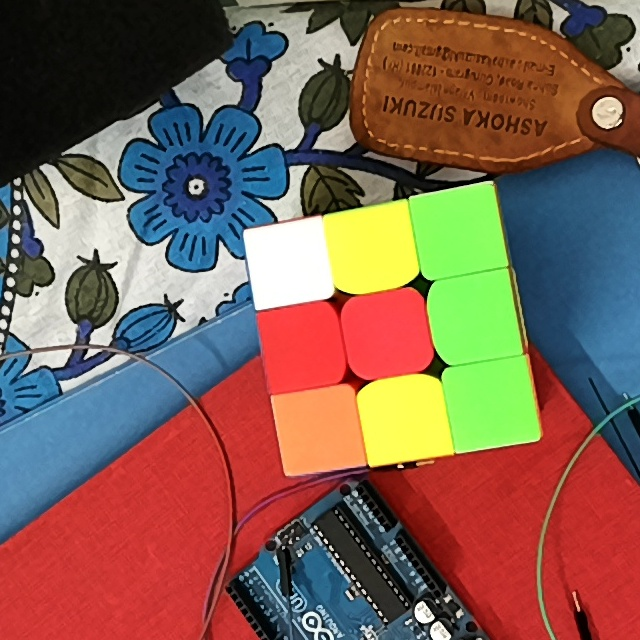tile: (455, 371, 526, 439), (439, 284, 509, 351), (422, 197, 492, 263), (283, 397, 354, 461), (372, 388, 439, 454), (339, 216, 408, 280), (354, 302, 421, 367), (255, 232, 321, 296), (272, 315, 335, 380)
